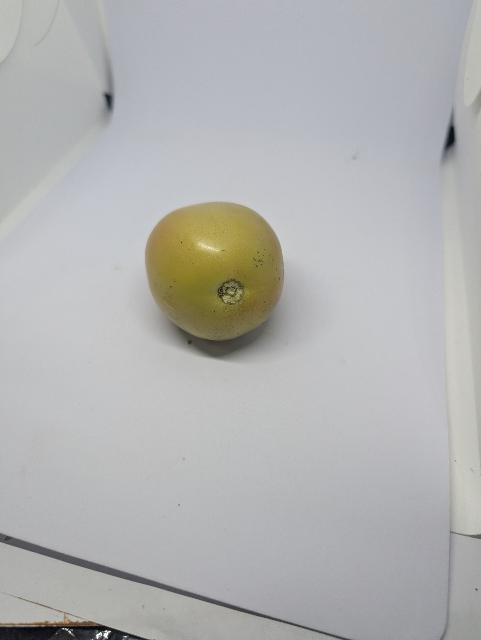breaker: (141, 201, 298, 348)
